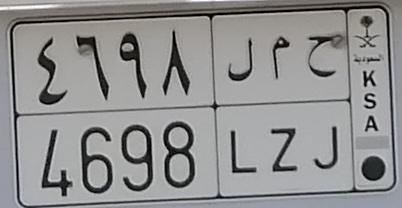4: (37, 36, 75, 198)
6: (76, 34, 114, 195)
8: (161, 29, 197, 189)
9: (119, 31, 155, 191)
J: (307, 35, 339, 170)
L: (227, 36, 257, 175)
Z: (271, 35, 299, 172)
